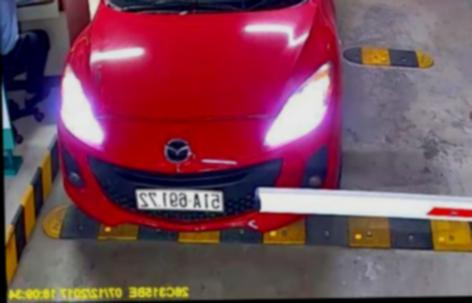License_Plate: (133, 187, 227, 216)
